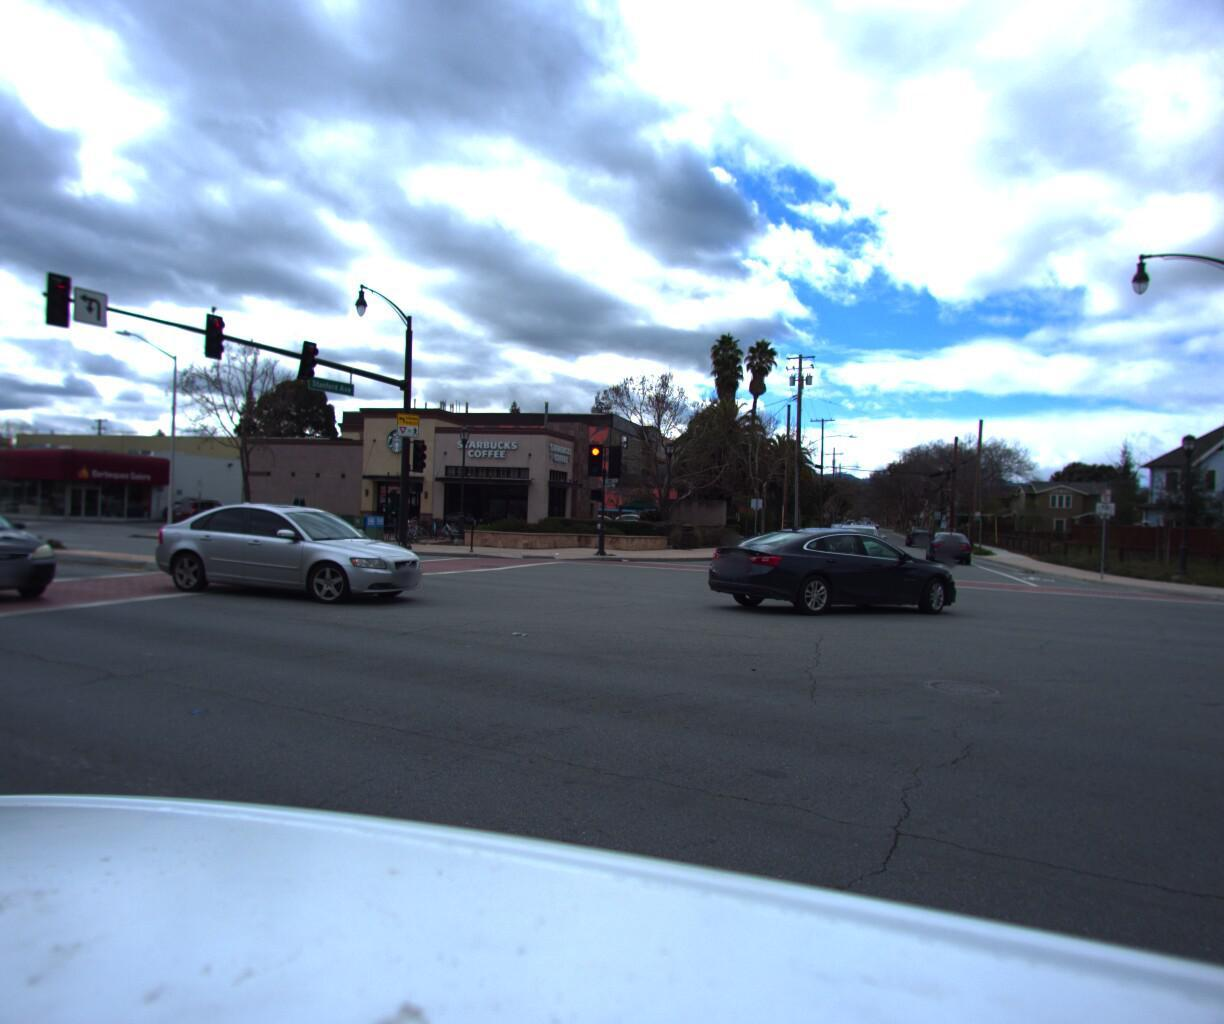bicycle: (736, 523, 764, 546)
car: (140, 493, 446, 611), (697, 517, 962, 615), (0, 476, 79, 610), (827, 517, 885, 566), (164, 491, 246, 523), (926, 523, 975, 557), (900, 518, 936, 539)
